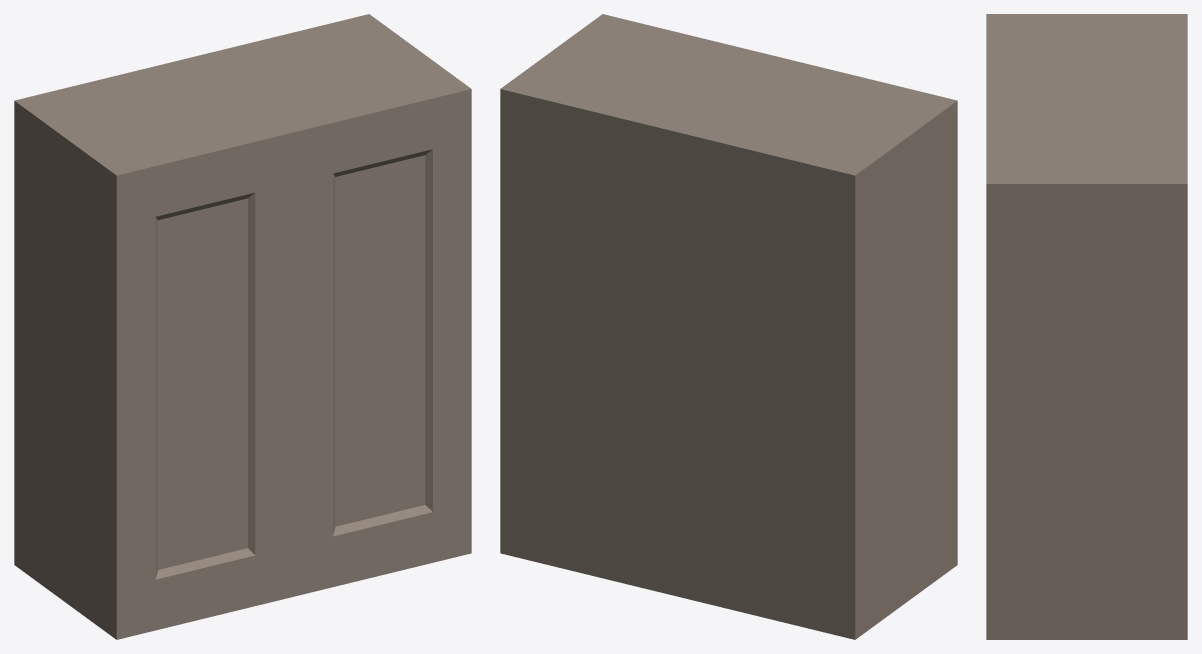
File: WHP-Wall-Cabinet-Double-Door-Shelves_std_001_W24in.glb
The picture shows the model from 3 angles, left to right: view 1: azimuth 30°, elevation 25°; view 2: azimuth 150°, elevation 25°; view 3: azimuth 270°, elevation 25°; orthographic projection.
Parts seen in each view (by area): view 1: WHP-Wall-Cabinet-Double-Door-Shelves.std.001_W24in; view 2: WHP-Wall-Cabinet-Double-Door-Shelves.std.001_W24in; view 3: WHP-Wall-Cabinet-Double-Door-Shelves.std.001_W24in.
Part boxes in pixels (bbox=[...]): WHP-Wall-Cabinet-Double-Door-Shelves.std.001_W24in: bbox=[14, 14, 471, 639]; WHP-Wall-Cabinet-Double-Door-Shelves.std.001_W24in: bbox=[500, 14, 957, 639]; WHP-Wall-Cabinet-Double-Door-Shelves.std.001_W24in: bbox=[986, 14, 1187, 639].
Bounding box in the file's own units: 0.6096 × 0.762 × 0.3048.
